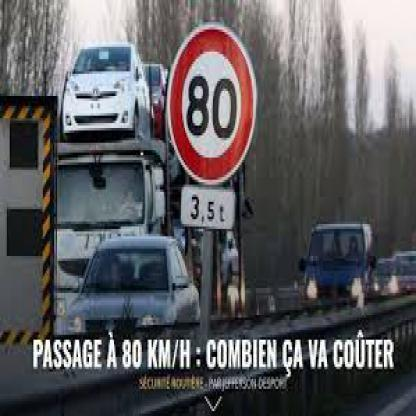Speed Limit 80: (171, 26, 256, 182)
